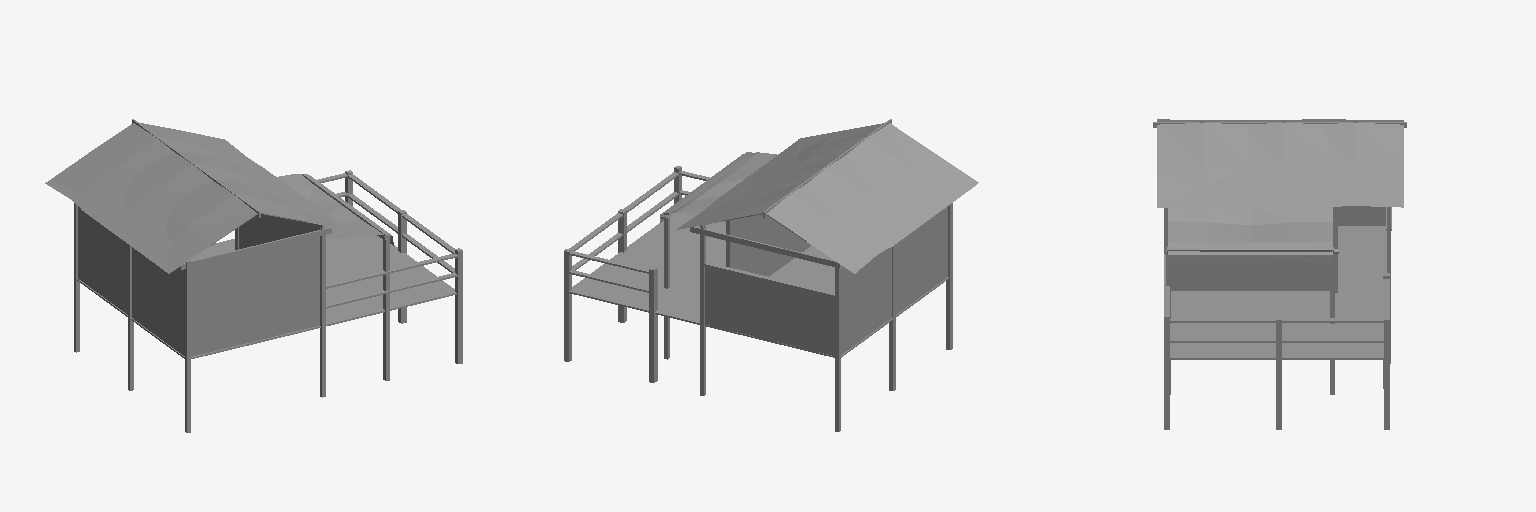
File: JungleHut02_blend.obj
3 renders of one model, left to right at view 1: azimuth 30°, elevation 25°; view 2: azimuth 150°, elevation 25°; view 3: azimuth 270°, elevation 25°, orthographic.
Visible parts, largest first — view 1: Untitled.001_Collision; view 2: Untitled.001_Collision; view 3: Untitled.001_Collision.
Boxes of the visible parts, x1=… form: Untitled.001_Collision: x1=45, y1=119, x2=462, y2=432; Untitled.001_Collision: x1=564, y1=119, x2=978, y2=431; Untitled.001_Collision: x1=1153, y1=119, x2=1406, y2=429.
Bounding box in the file's own units: 12.85 × 8.62 × 9.5.